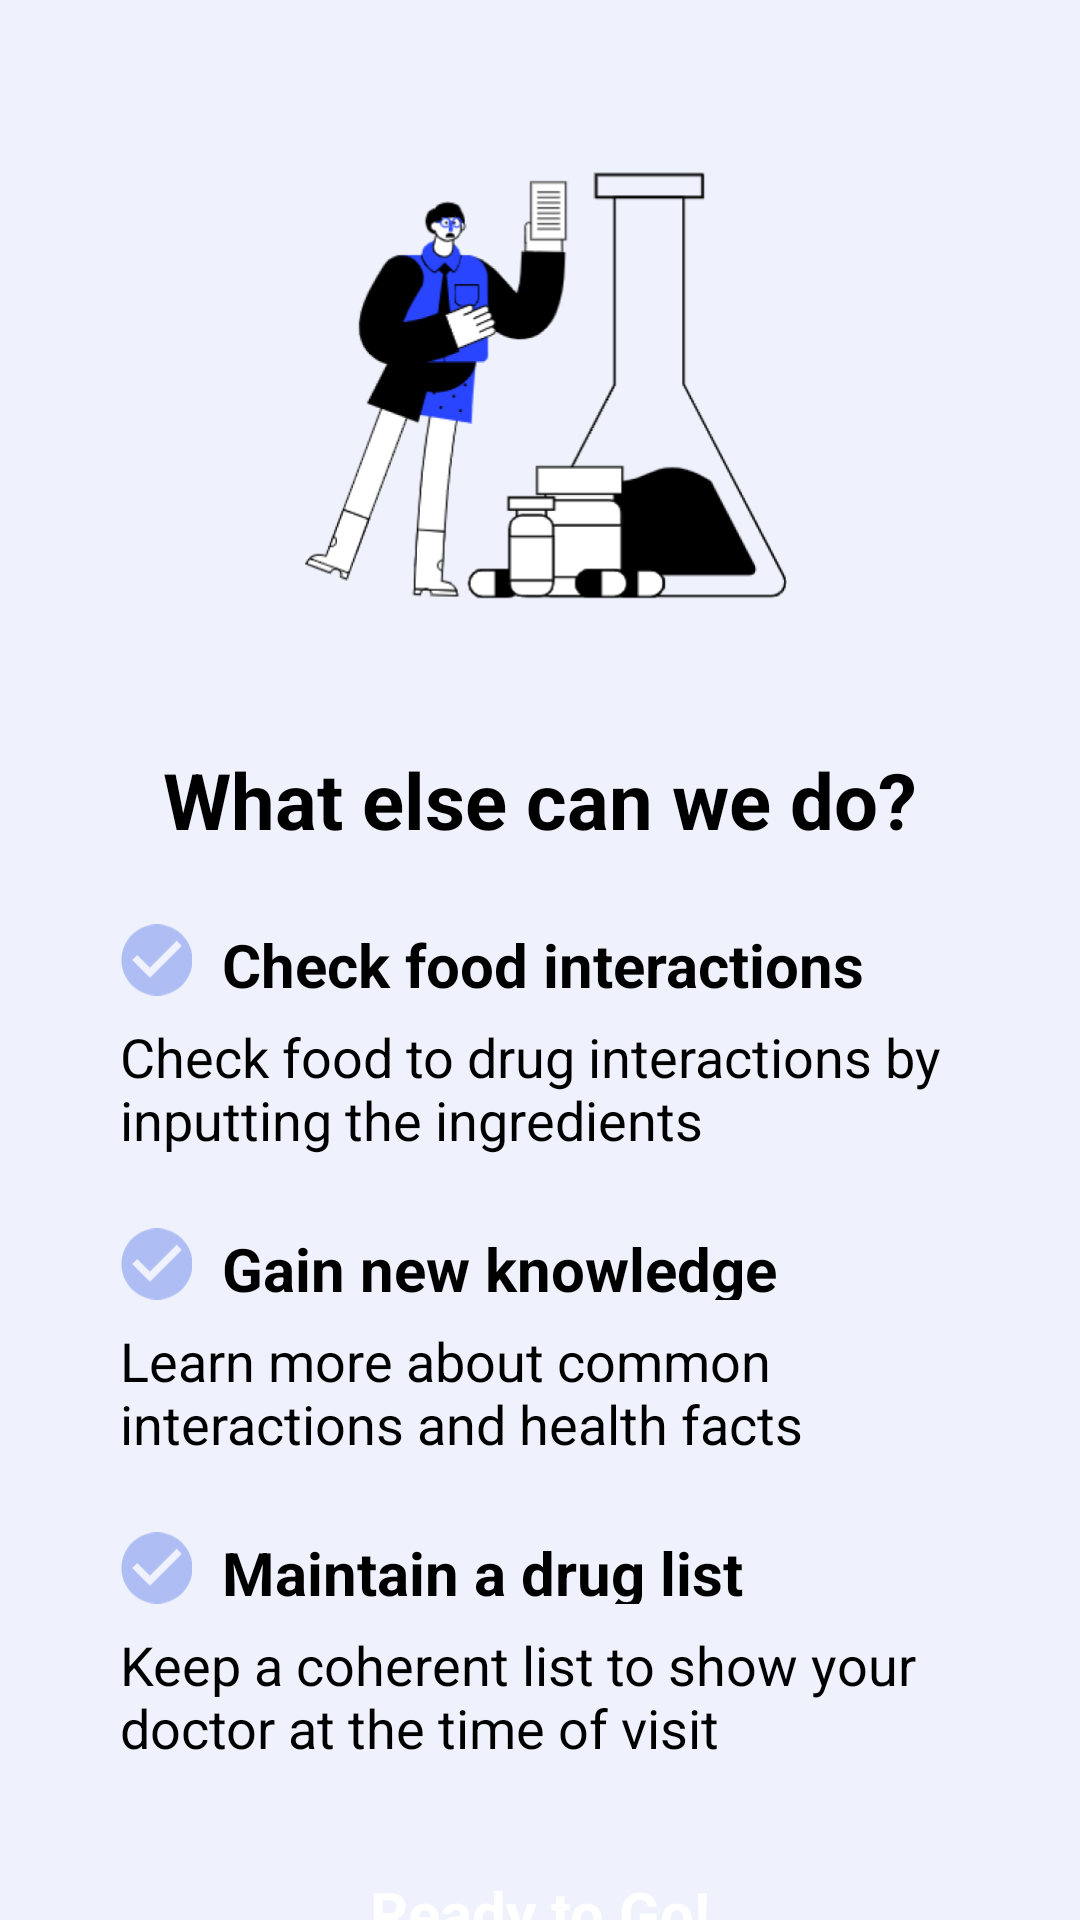

Locate icon controls on the screen. Image size 1080px x 1920px, boxes as (x1,y1,x2,y2).
onboarding checkmark: (121,924,192,996), (121,1228,192,1300), (121,1532,192,1604)
